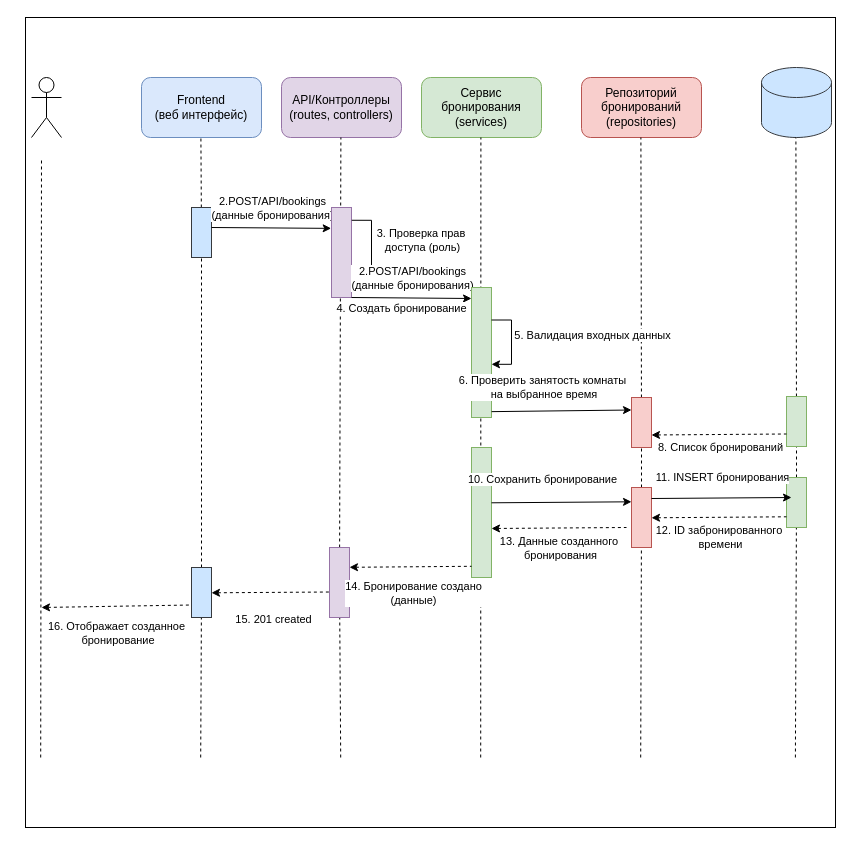
Image size: 853x845. Some labels were removed from this diagram. The box of each missing label's shape, as (x1, y1, x2, y2) in pixels:
База данных: (760, 66, 832, 138)
Сотрудник: (30, 76, 62, 138)
